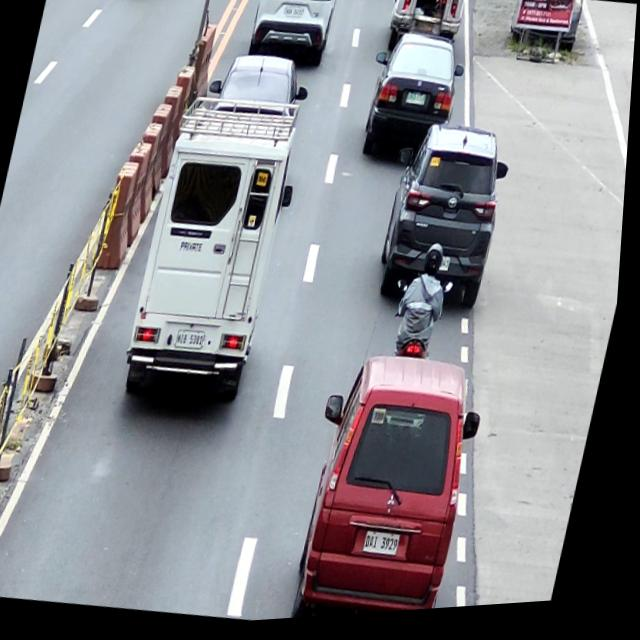Car: (122, 90, 315, 415), (287, 347, 499, 623), (370, 121, 520, 323), (356, 32, 473, 175), (206, 50, 317, 124), (242, 0, 345, 76)
Jeep: (380, 0, 469, 67)
License-Plate: (370, 534, 409, 563), (179, 330, 211, 354), (407, 97, 429, 113), (414, 25, 436, 40), (440, 262, 455, 279), (284, 10, 303, 23)
Motorcycle: (386, 281, 459, 371)
